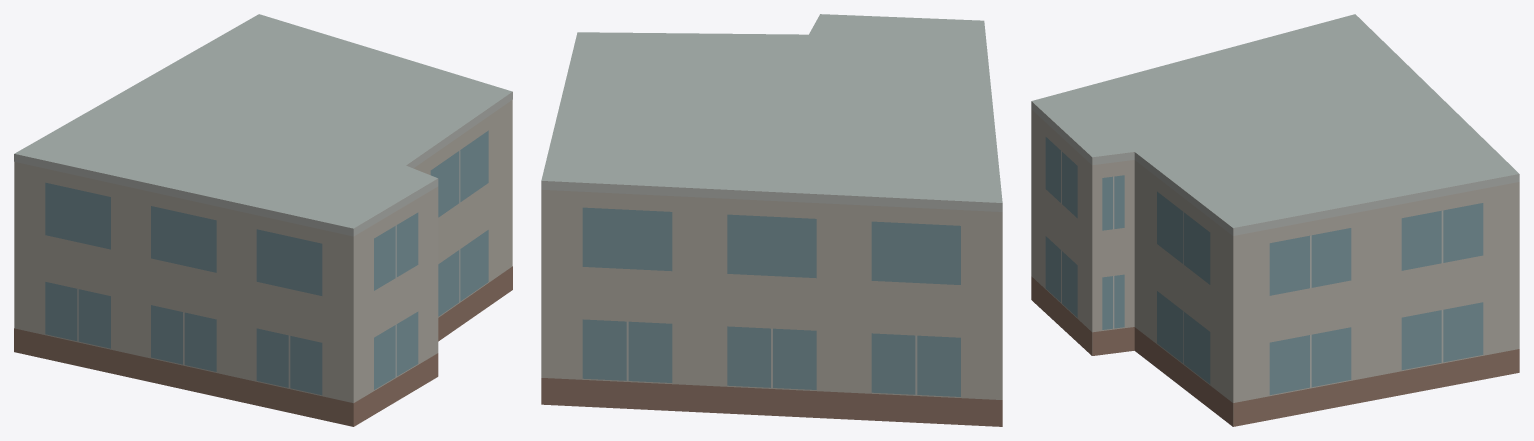
The model's file is survey-upis-32768765.glb.
3 renders of one model, left to right at view 1: azimuth 30°, elevation 25°; view 2: azimuth 150°, elevation 25°; view 3: azimuth 270°, elevation 25°, orthographic. The views are drawn at different scales.
Parts seen in each view (by area): view 1: survey-upis-32768765.tmp; view 2: survey-upis-32768765.tmp; view 3: survey-upis-32768765.tmp.
Boxes of the visible parts, x1,y1,x2,y2 form: survey-upis-32768765.tmp: (14, 14, 512, 426); survey-upis-32768765.tmp: (541, 14, 1002, 426); survey-upis-32768765.tmp: (1031, 14, 1519, 426).
Size of the model in its own units: 14.1 by 6.1 by 13.59.
